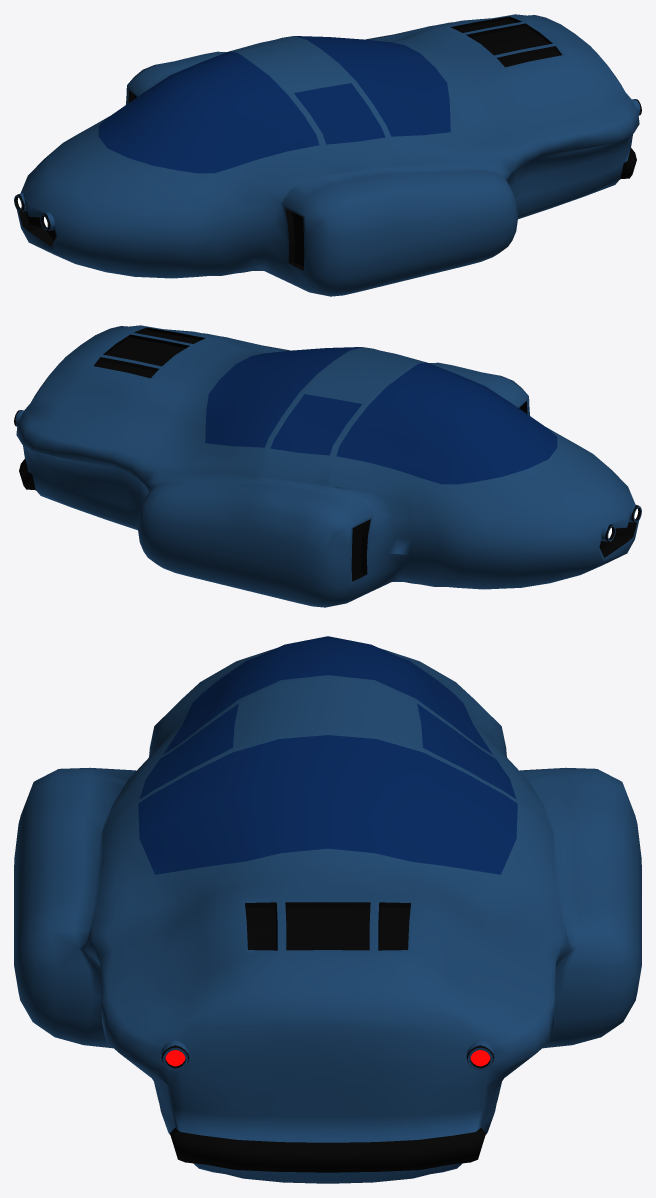
The model's file is Tri Body.glb.
3 renders of one model, top to bottom at view 1: azimuth 30°, elevation 25°; view 2: azimuth 150°, elevation 25°; view 3: azimuth 270°, elevation 25°, orthographic. The views are drawn at different scales.
Visible parts, largest first — view 1: SubBody; view 2: SubBody; view 3: SubBody.
Part boxes in pixels (bbox=[...]): SubBody: bbox=[14, 14, 641, 296]; SubBody: bbox=[14, 325, 641, 607]; SubBody: bbox=[14, 636, 641, 1183].
Size of the model in its own units: 5.85 by 1.7 by 3.7.
